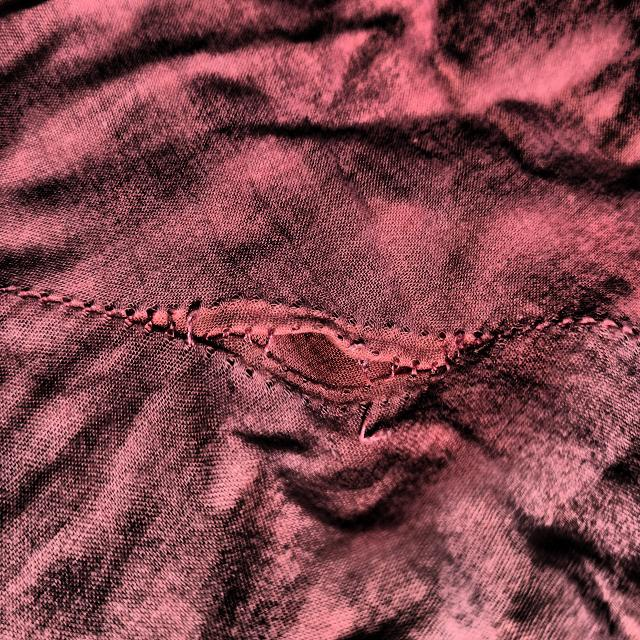seam: (133, 256, 475, 444)
